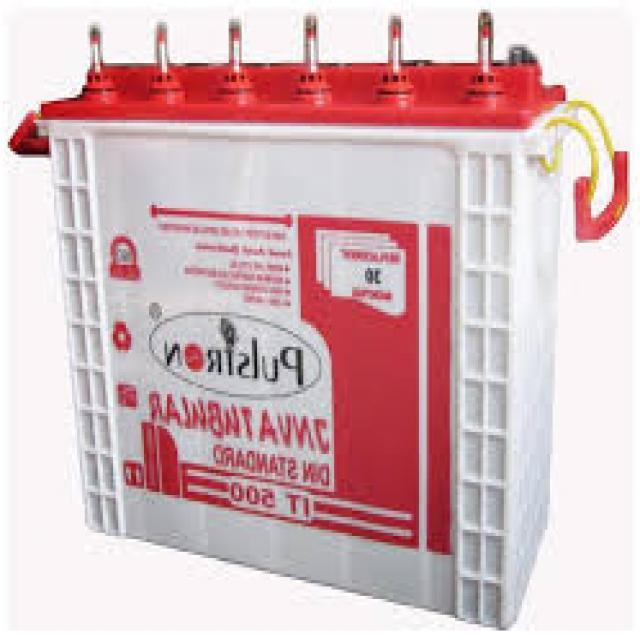battery: (6, 15, 630, 632)
